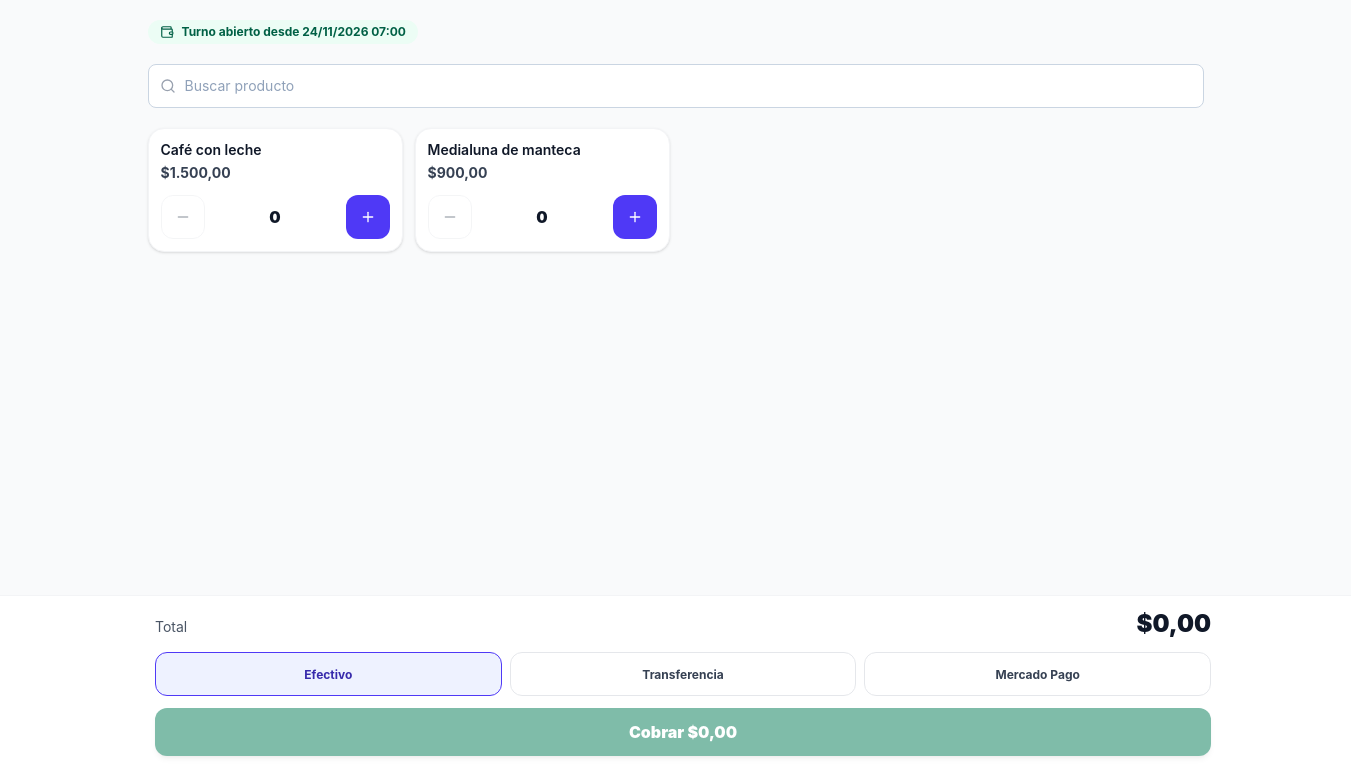
Test: Nueva venta (/ventas/nueva) › otro error de la API se muestra en un aviso y deja reintentar
The width and height of the screenshot is (1366, 768).
Expected: the text "Café con leche" is shown, [160,141,262,158]
Click the button named "Agregar una unidad" at (368, 216), box [346,194,390,238]
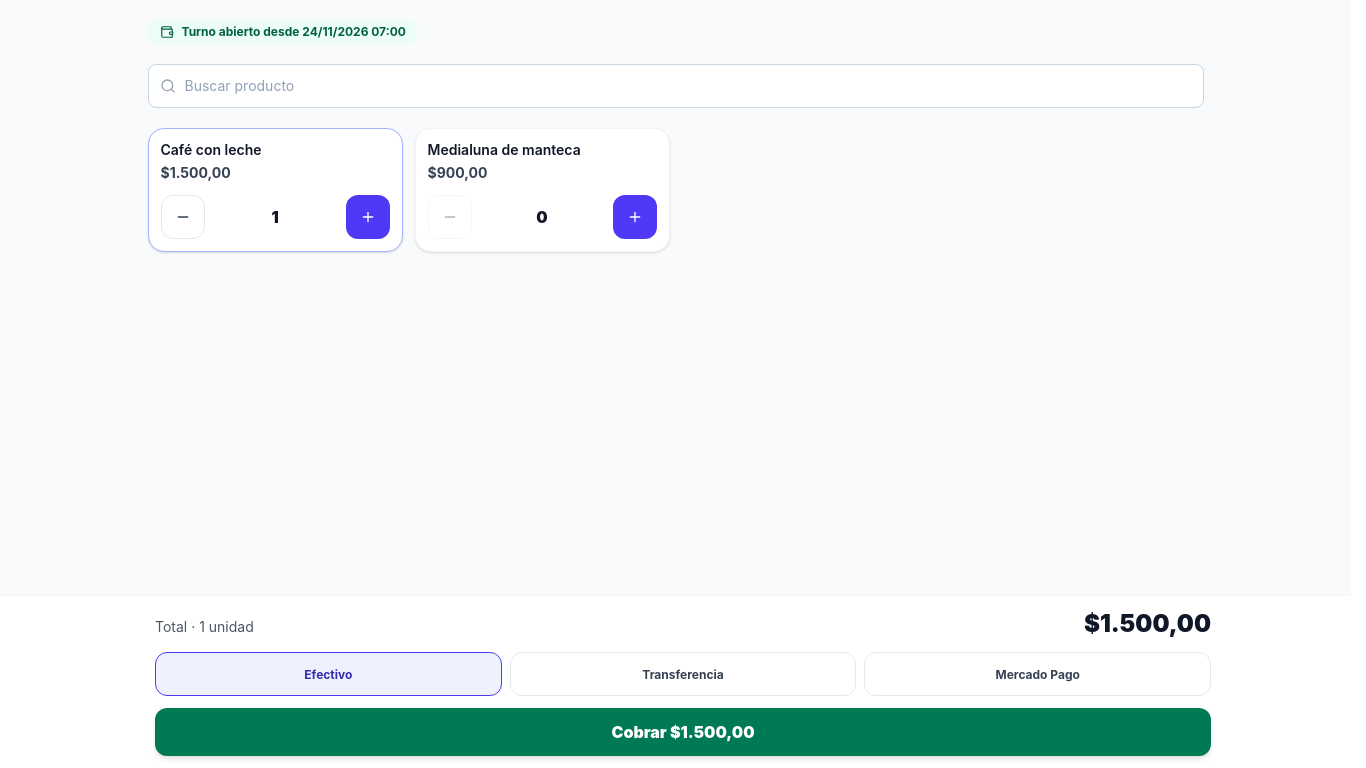
Click the button "Cobrar $1.500,00" at (683, 732), box [155,708,1211,756]
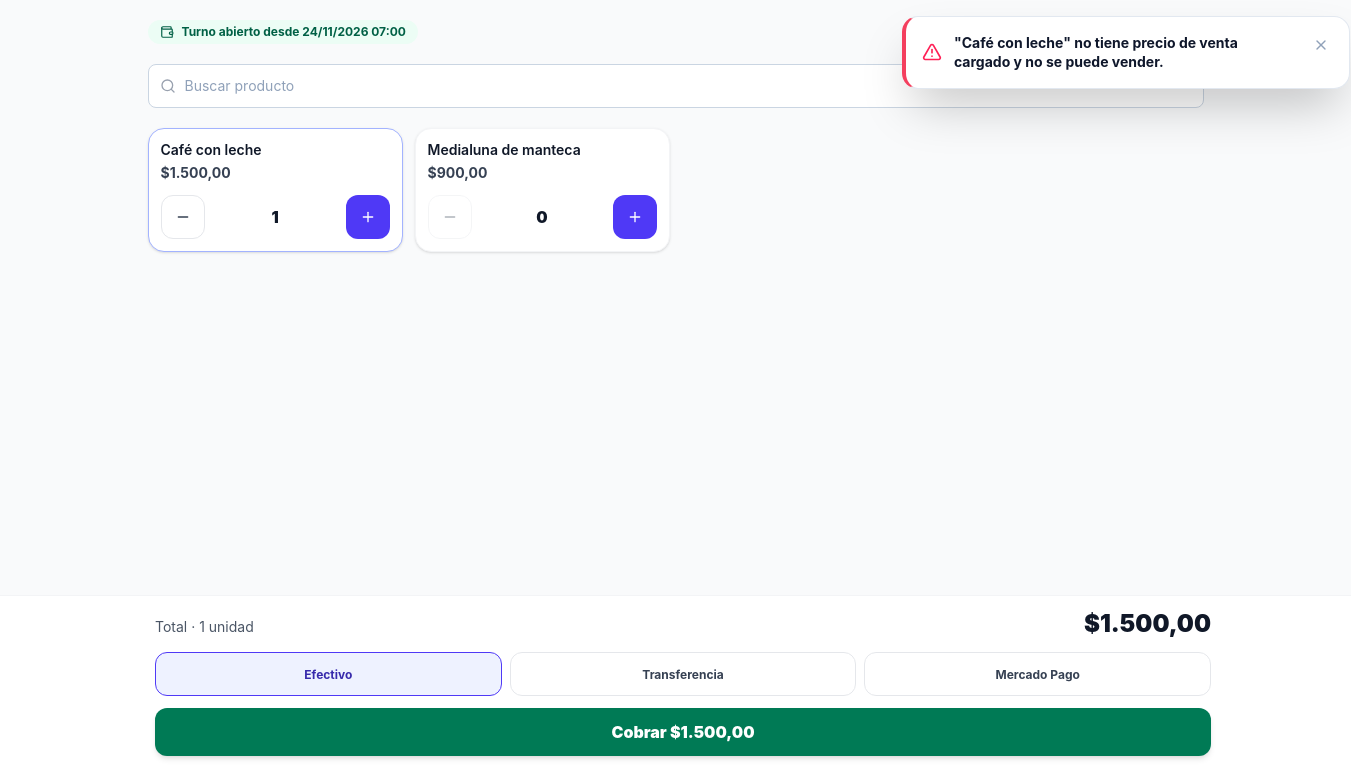
Result: the button "Cobrar $1.500,00" is enabled at [155,708,1211,756]
Result: the text "no tiene precio de venta cargado" is shown at [954,34,1238,70]
